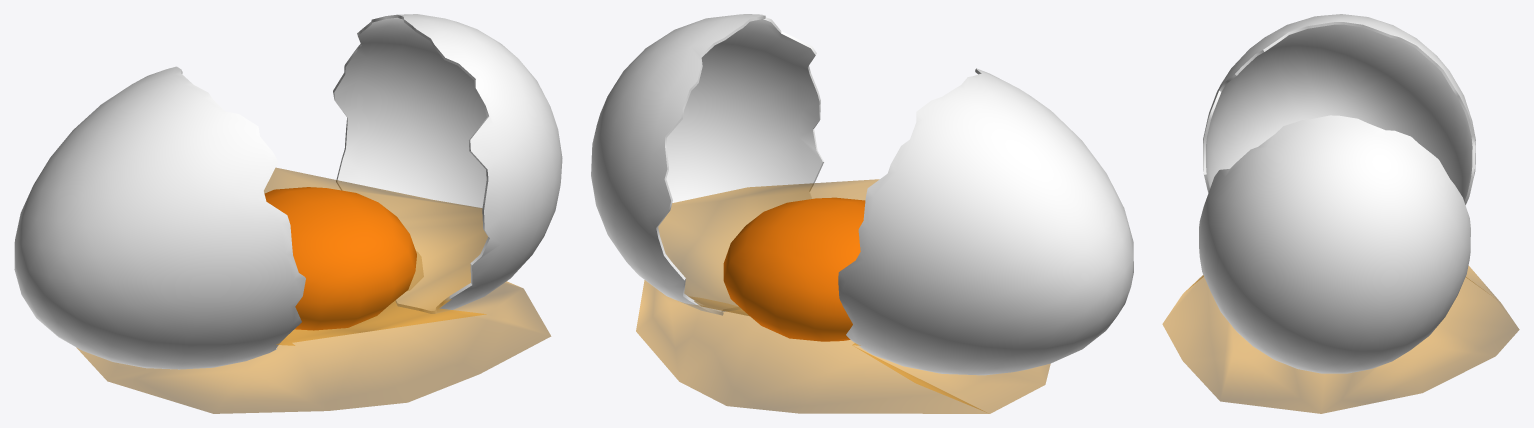
Rendered from egg_open.FBX.
The picture shows the model from 3 angles, left to right: view 1: azimuth 30°, elevation 25°; view 2: azimuth 150°, elevation 25°; view 3: azimuth 270°, elevation 25°; orthographic projection. The views are drawn at different scales.
Visible parts, largest first — view 1: Shell_up, Shiromi, Shell_down, Kimi; view 2: Shell_up, Shiromi, Shell_down, Kimi; view 3: Shell_down, Shell_up, Shiromi.
Boxes of the visible parts, box(x1,y1,x2,y2) form: Shell_up: box(14, 66, 305, 369); Shiromi: box(76, 167, 550, 413); Shell_down: box(333, 14, 562, 313); Kimi: box(264, 187, 416, 330); Shell_up: box(838, 68, 1133, 375); Shiromi: box(636, 179, 1050, 413); Shell_down: box(591, 14, 823, 315); Kimi: box(723, 197, 865, 341); Shell_down: box(1199, 115, 1470, 373); Shell_up: box(1203, 14, 1475, 204); Shiromi: box(1162, 266, 1519, 413).
Size of the model in its own units: 76.59 by 40.16 by 51.32.
